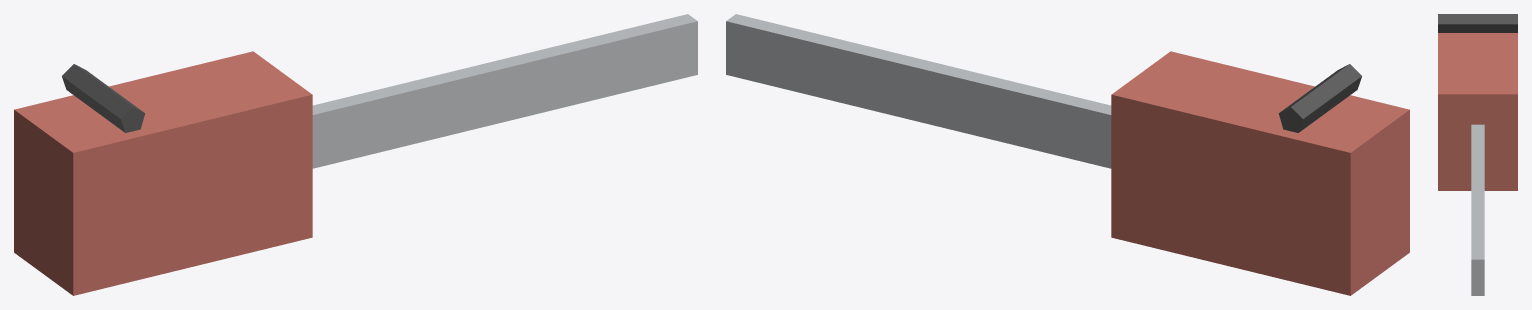
Rendered from held_tool_chainsaw.glb.
The picture shows the model from 3 angles, left to right: view 1: azimuth 30°, elevation 25°; view 2: azimuth 150°, elevation 25°; view 3: azimuth 270°, elevation 25°; orthographic projection. The views are drawn at different scales.
Parts seen in each view (by area): view 1: held_tool_chainsaw; view 2: held_tool_chainsaw; view 3: held_tool_chainsaw.
Boxes of the visible parts, box(x1,y1,x2,y2) form: held_tool_chainsaw: box(14, 14, 697, 295); held_tool_chainsaw: box(726, 14, 1409, 295); held_tool_chainsaw: box(1438, 14, 1517, 295).
Bounding box in the file's own units: 0.76 × 0.195 × 0.12.
